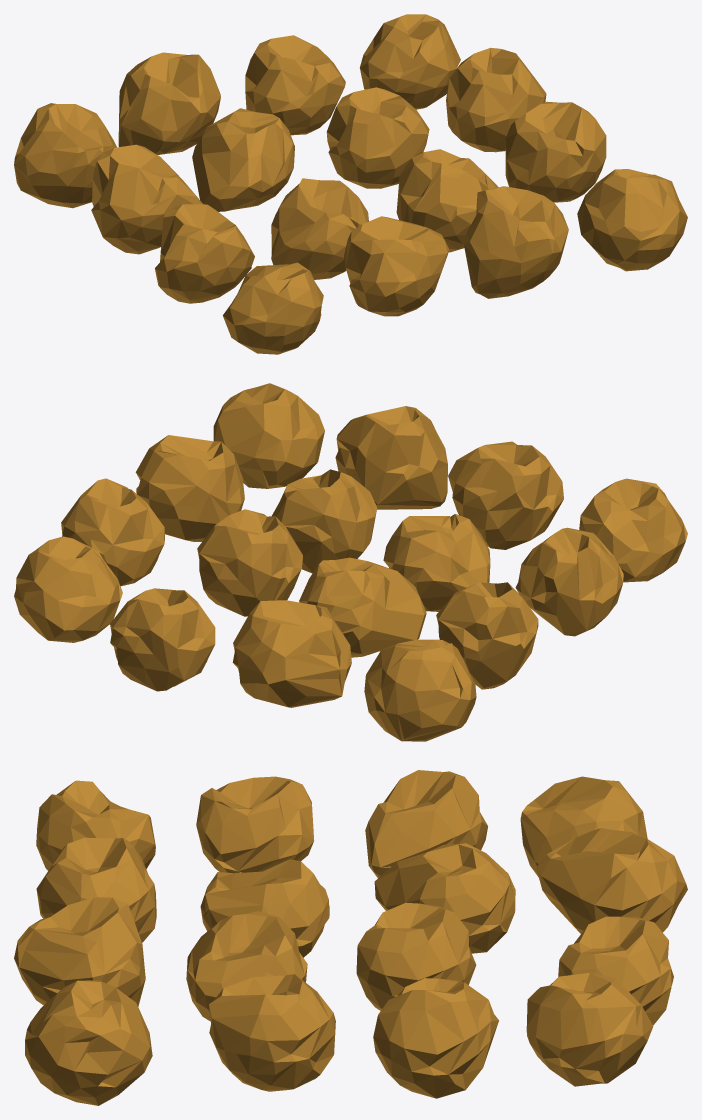
File: Pumpkins.fbx
3 renders of one model, top to bottom at view 1: azimuth 30°, elevation 25°; view 2: azimuth 150°, elevation 25°; view 3: azimuth 270°, elevation 25°, orthographic. The views are drawn at different scales.
Parts seen in each view (by area): view 1: Pumpkins; view 2: Pumpkins; view 3: Pumpkins.
Boxes of the visible parts, bbox=[...] form: Pumpkins: bbox=[14, 14, 687, 354]; Pumpkins: bbox=[14, 383, 687, 741]; Pumpkins: bbox=[14, 770, 687, 1105].
Size of the model in its own units: 188 by 42.15 by 200.
